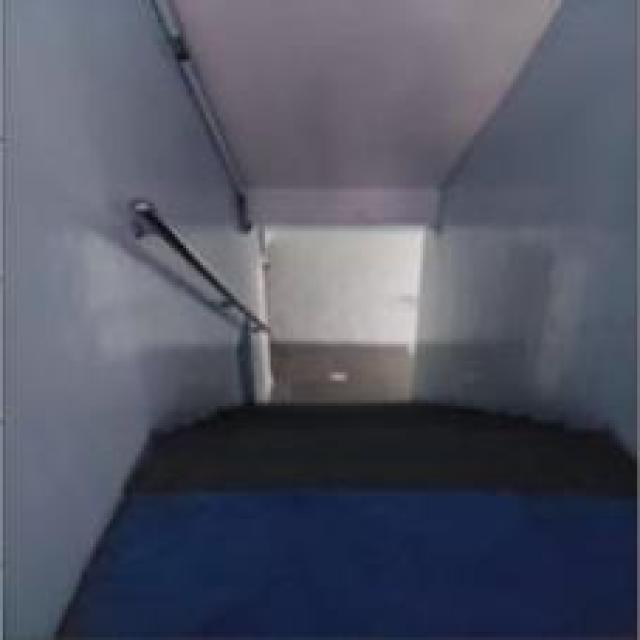stair: (123, 368, 640, 545)
